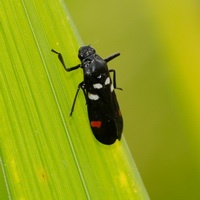insect: (51, 45, 122, 144)
